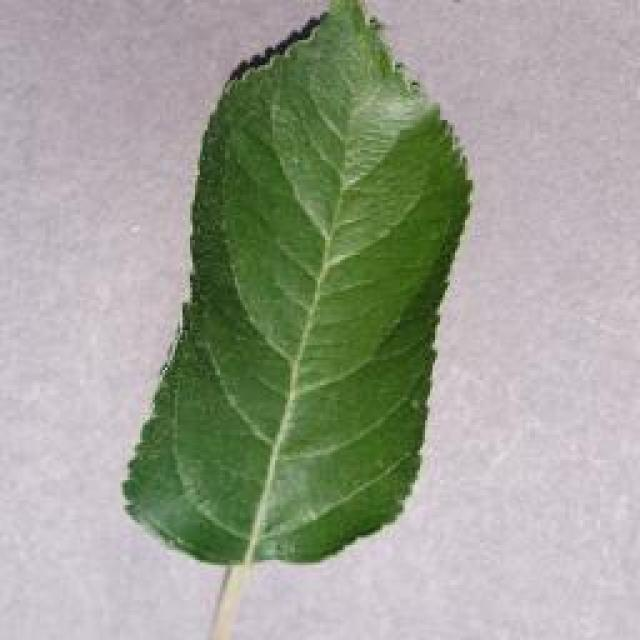Apple___healthy: (110, 0, 490, 625)
